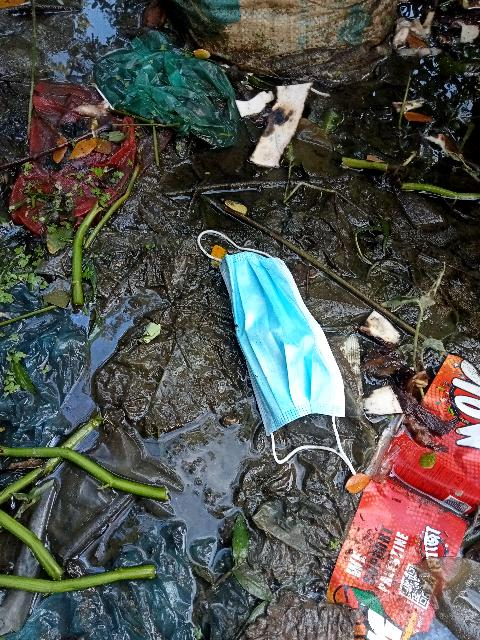mask: (170, 193, 393, 506)
